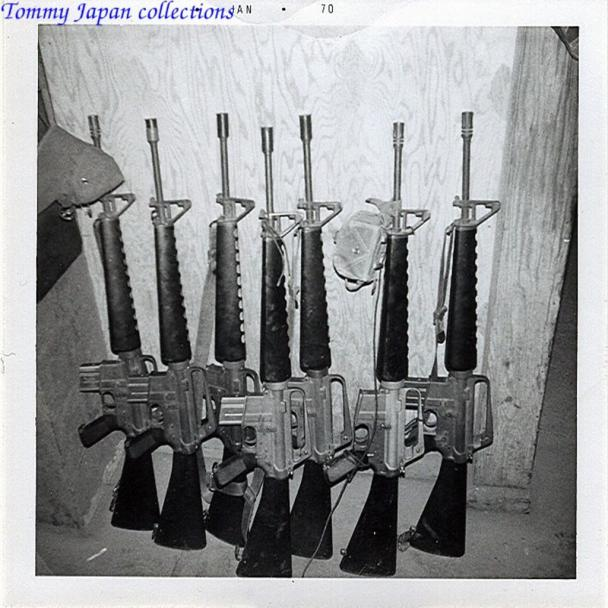Gun: (78, 110, 162, 536), (132, 115, 212, 544), (427, 99, 499, 564), (362, 96, 428, 563), (193, 103, 261, 542), (289, 109, 353, 566), (250, 112, 300, 580)
